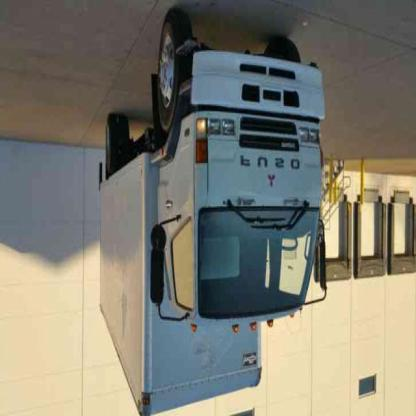truck: (100, 12, 326, 416)
